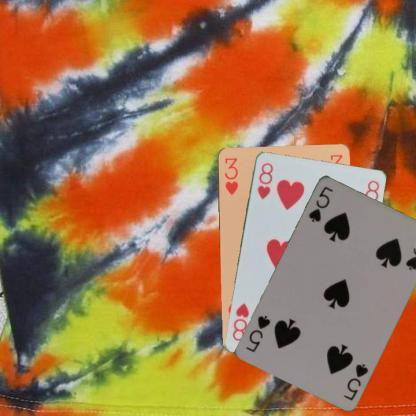3h: (221, 155, 239, 196)
5s: (341, 360, 370, 402), (306, 183, 335, 223)
8h: (254, 160, 274, 201)
